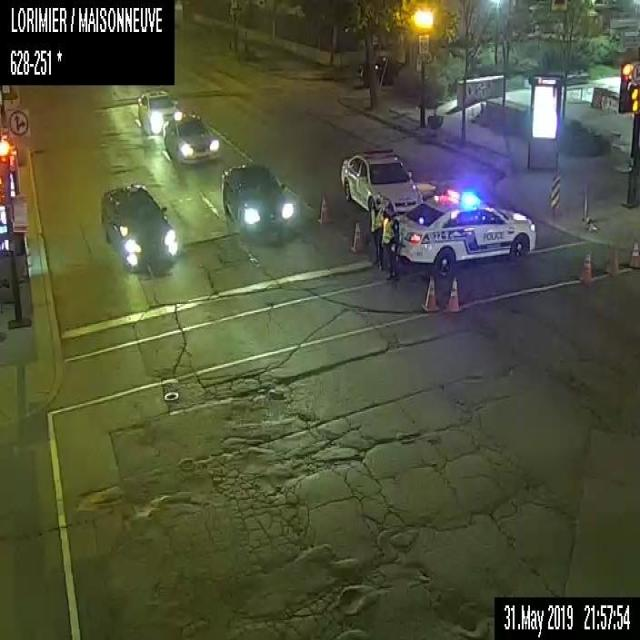construction: (421, 273, 438, 312), (444, 273, 461, 311), (607, 242, 622, 277), (579, 248, 594, 282), (349, 221, 364, 252), (316, 191, 329, 224), (628, 236, 639, 268)
pedestrian: (381, 202, 399, 278), (370, 197, 386, 264)
vehicle: (396, 189, 536, 275), (100, 182, 178, 274), (219, 160, 294, 241), (339, 148, 422, 214), (162, 108, 218, 165), (137, 88, 177, 134), (356, 54, 403, 85)
